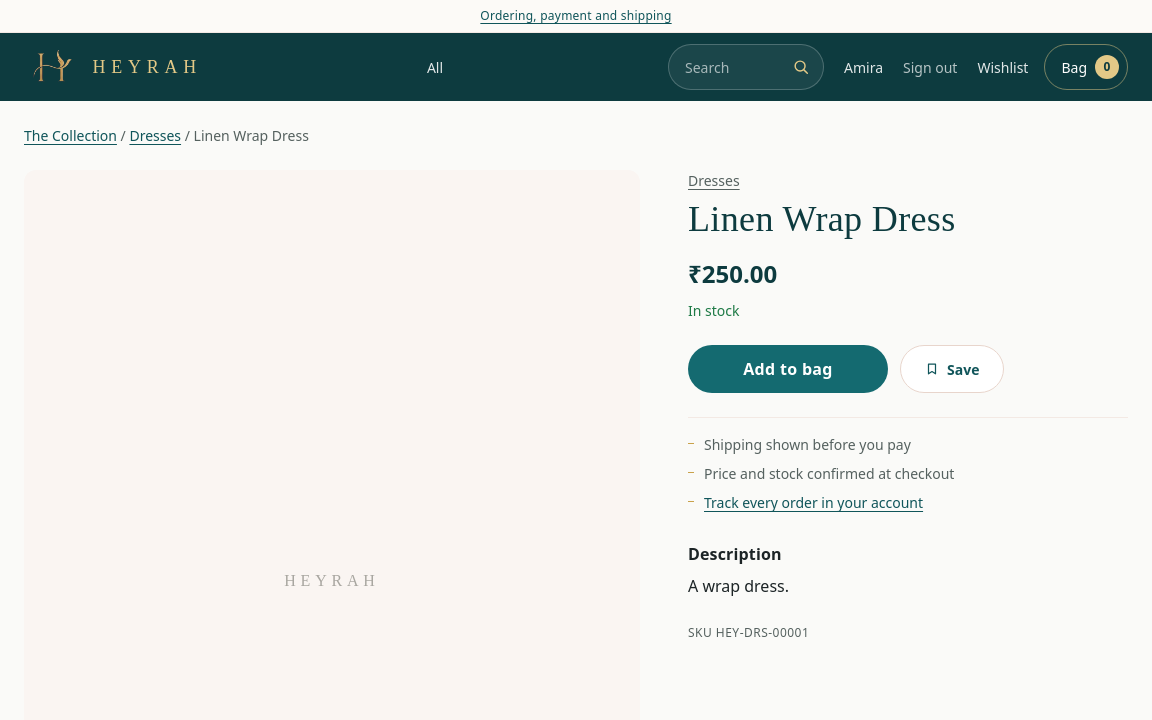
Scenario: save toggle › surfaces an API error without changing the saved state
This screenshot has width=1152, height=720.
Click the button named "Save Linen Wrap Dress to wishlist" at (952, 369), box [900, 345, 1004, 393]
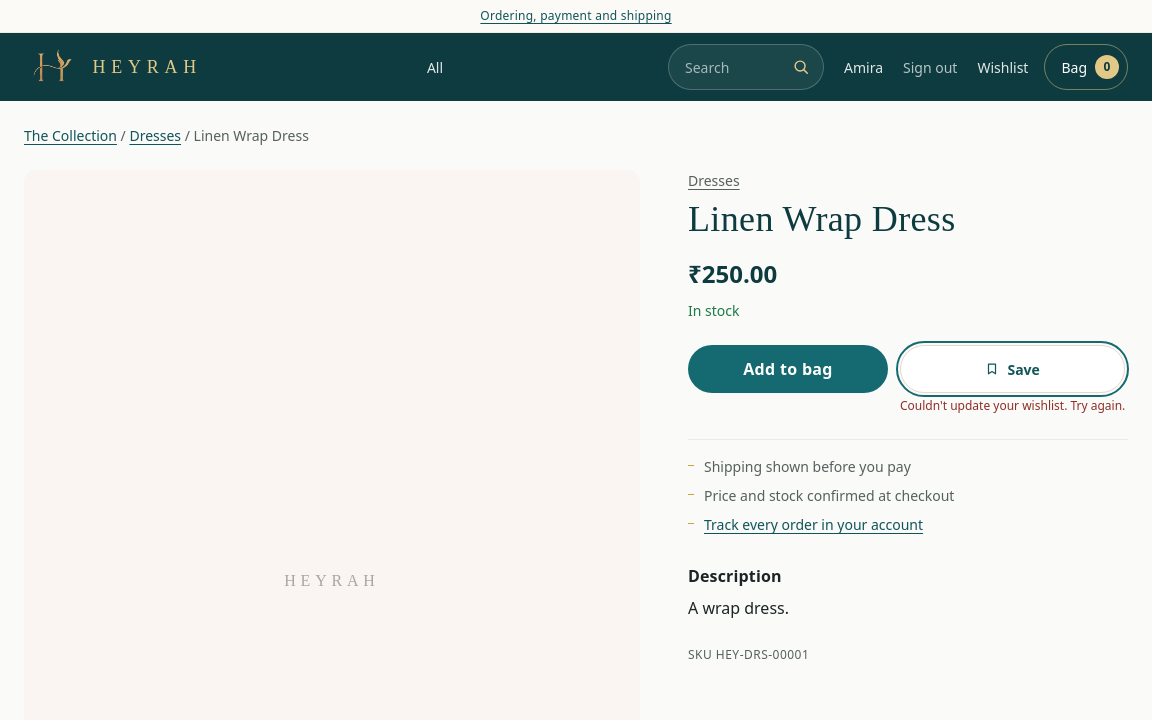
Now the message reads "Couldn't update your wishlist. Try again.", box [900, 397, 1125, 414]
